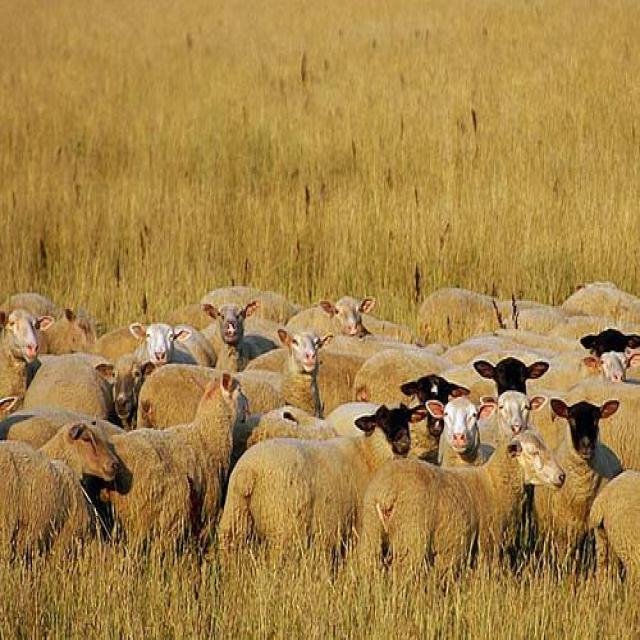Sheep: (1, 280, 639, 620), (216, 405, 418, 571), (360, 433, 567, 569), (107, 372, 251, 543), (0, 423, 119, 574), (534, 399, 620, 562), (245, 331, 371, 416), (326, 372, 471, 438), (23, 356, 117, 424), (351, 349, 461, 403), (138, 364, 228, 430), (201, 301, 282, 370), (428, 397, 496, 473), (479, 391, 549, 462)
